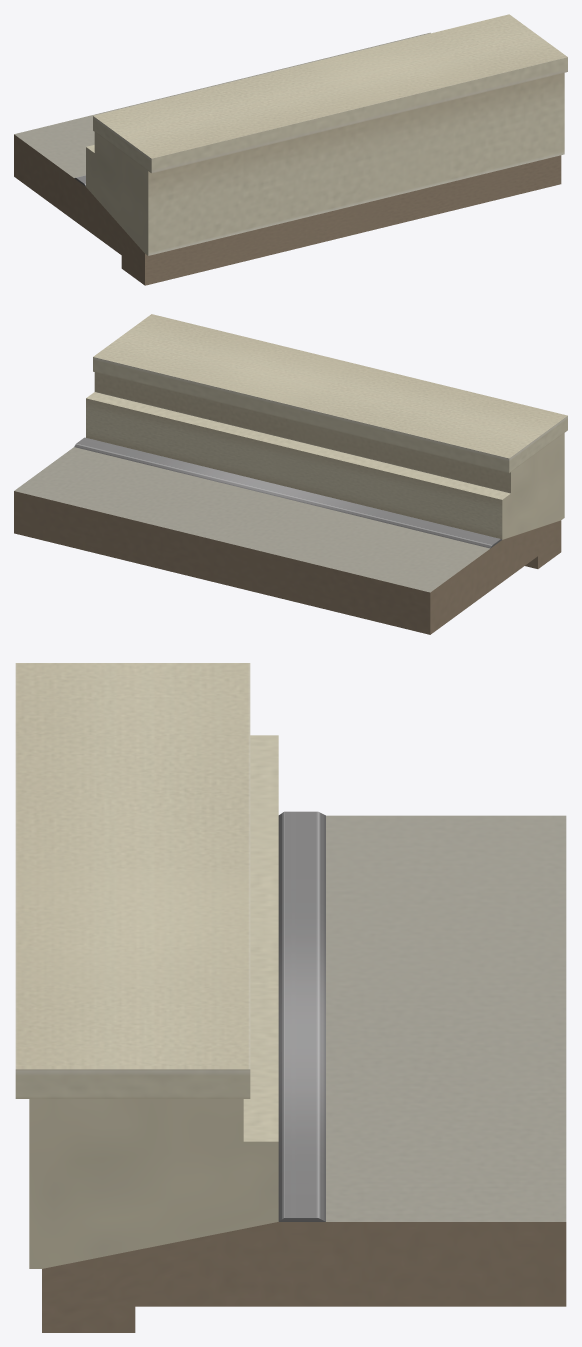
Rendered from set_roof_outside_a01.fbx.
The picture shows the model from 3 angles, top to bottom: view 1: azimuth 30°, elevation 25°; view 2: azimuth 150°, elevation 25°; view 3: azimuth 270°, elevation 25°; orthographic projection. The views are drawn at different scales.
Parts seen in each view (by area): view 1: set_roof_outside_a01; view 2: set_roof_outside_a01; view 3: set_roof_outside_a01.
Part boxes in pixels (x1,y1,x2,y2): set_roof_outside_a01: (14,14,567,285); set_roof_outside_a01: (14,314,567,634); set_roof_outside_a01: (15,663,566,1332).
Bounding box in the file's own units: 400 × 121 × 229.
